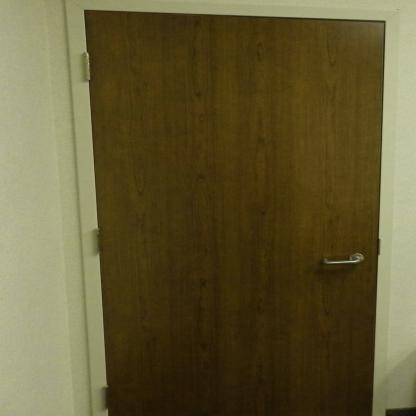door: (80, 10, 374, 415)
hinged: (82, 50, 92, 82), (101, 385, 113, 411), (94, 230, 106, 255)
lever: (319, 255, 363, 268)
